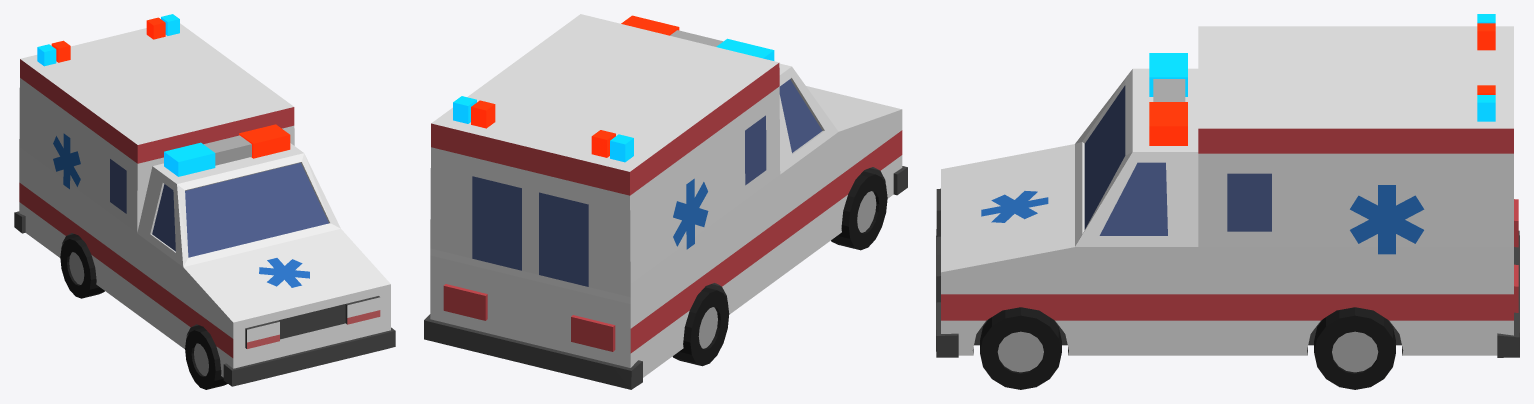
The model's file is sanitka.fbx.
3 views of the same model, side by side, from view 1: azimuth 30°, elevation 25°; view 2: azimuth 150°, elevation 25°; view 3: azimuth 270°, elevation 25° (orthographic). The views are drawn at different scales.
Visible parts, largest first — view 1: sanitka, majaky; view 2: sanitka, majaky; view 3: sanitka, majaky.
Boxes of the visible parts, <box> form: sanitka: <box>14,23,395,389</box>; majaky: <box>37,14,290,176</box>; sanitka: <box>424,14,907,389</box>; majaky: <box>453,15,774,162</box>; sanitka: <box>936,26,1519,389</box>; majaky: <box>1149,14,1495,145</box>.
Size of the model in its own units: 227 by 274 by 521.
